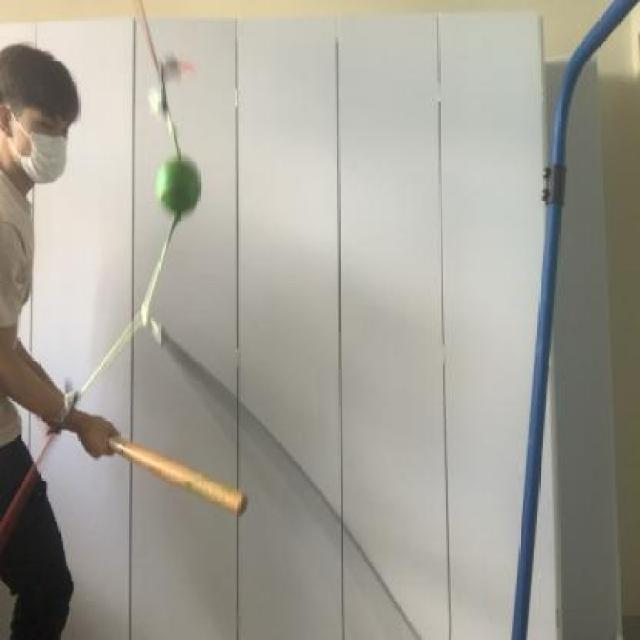baseball: (156, 154, 204, 220)
